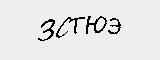З: (38, 15, 54, 44)
С: (57, 15, 71, 39)
Т: (69, 15, 85, 37)
Э: (108, 15, 124, 37)
Ю: (83, 13, 105, 34)
